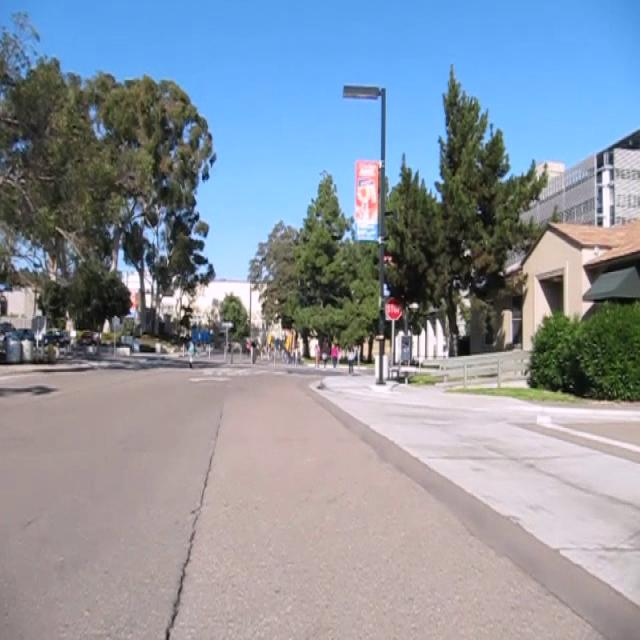stop_sign: (385, 295, 404, 320)
